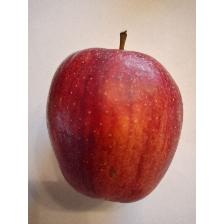Apfel: (45, 25, 185, 205)
